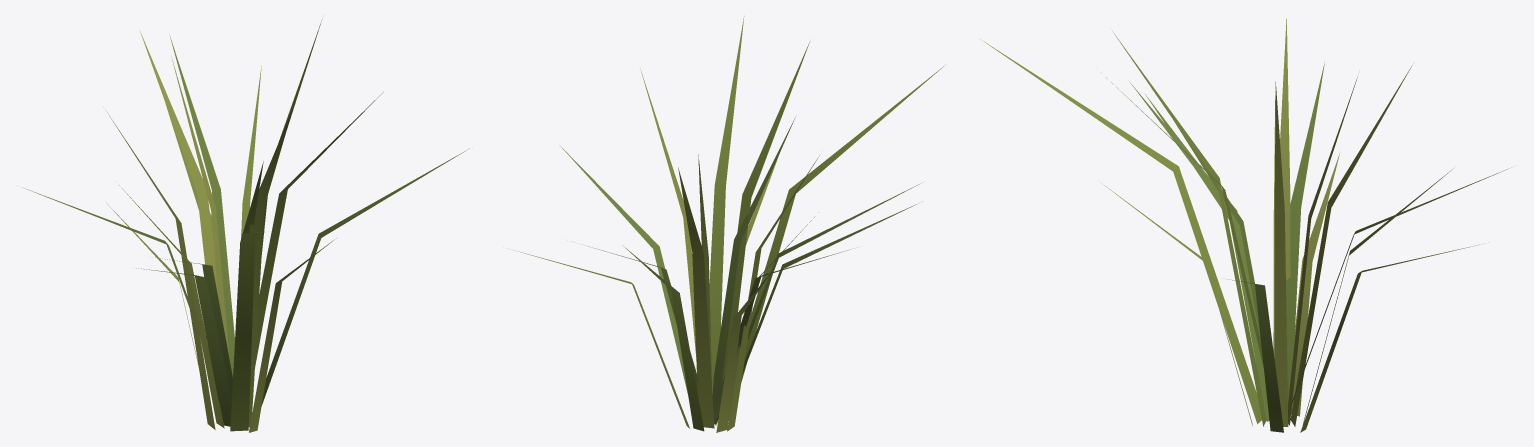
The model's file is grass_3.fbx.
3 views of the same model, side by side, from view 1: azimuth 30°, elevation 25°; view 2: azimuth 150°, elevation 25°; view 3: azimuth 270°, elevation 25° (orthographic). The views are drawn at different scales.
Parts seen in each view (by area): view 1: grass_3; view 2: grass_3; view 3: grass_3.
Part boxes in pixels (left/top/right/bottom): grass_3: left=22, top=19, right=469, bottom=432; grass_3: left=513, top=16, right=943, bottom=432; grass_3: left=980, top=18, right=1511, bottom=432.
Size of the model in its own units: 0.5528 by 0.5068 by 0.6452.
